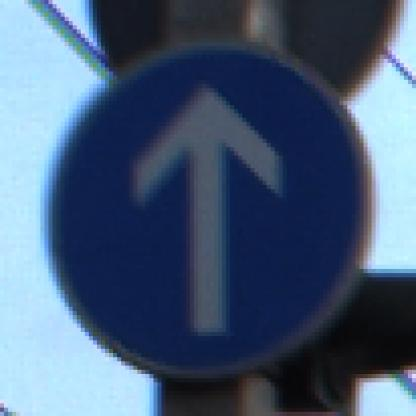AheadOnly: (37, 39, 381, 383)
